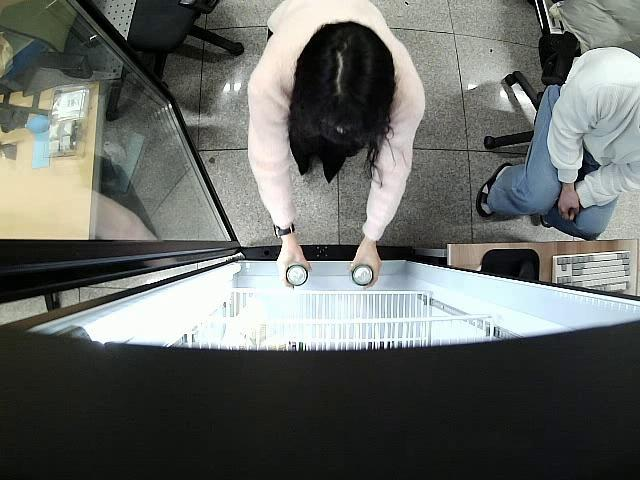12_chilsungCider: (350, 263, 374, 286), (286, 264, 308, 286)
